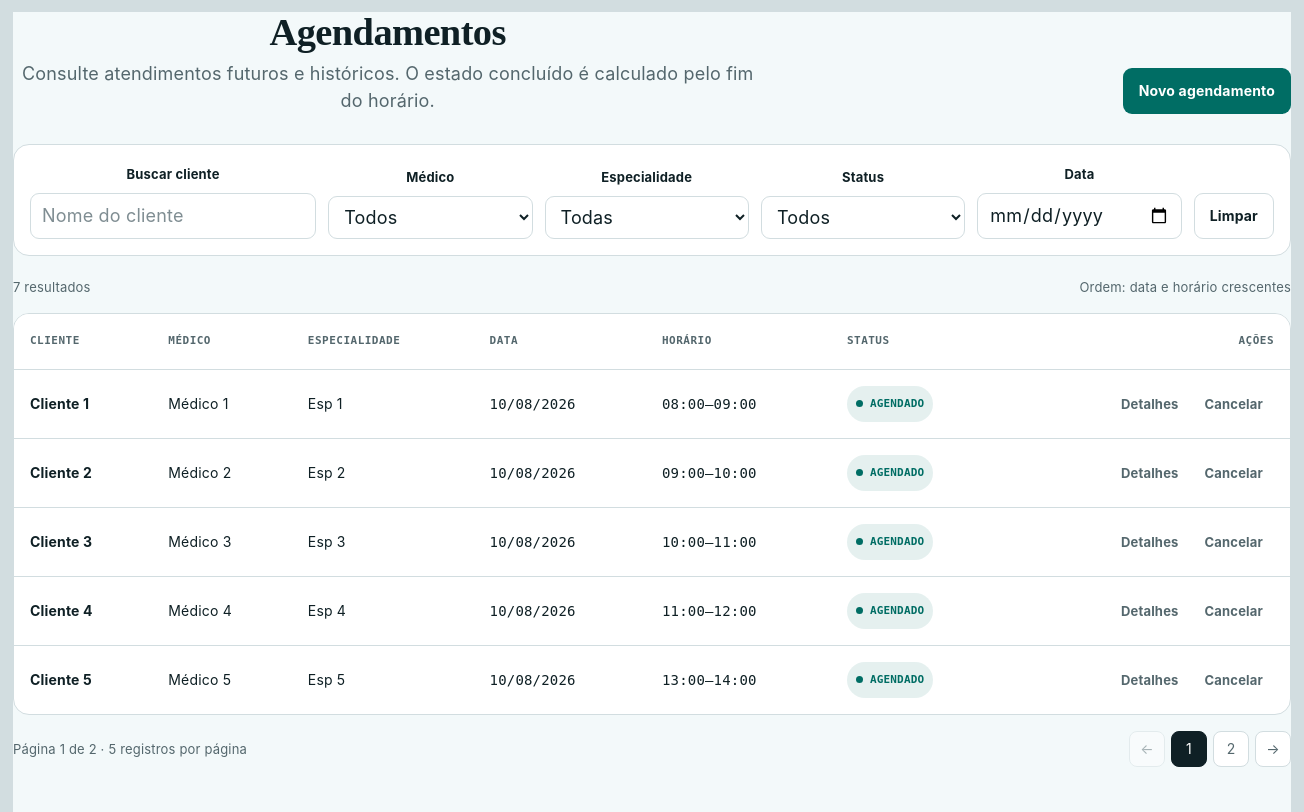
Test: AgendamentosPage — integração de paginação › ao clicar na página 2, busca novos registros e atualiza a contagem
This screenshot has width=1304, height=812.
Expected: the text "Cliente 1" is shown, top-left (30, 394), bottom-right (89, 412)
Click the button named "Página 2" at coordinates (1231, 749), box top-left (1213, 731), bottom-right (1249, 767)
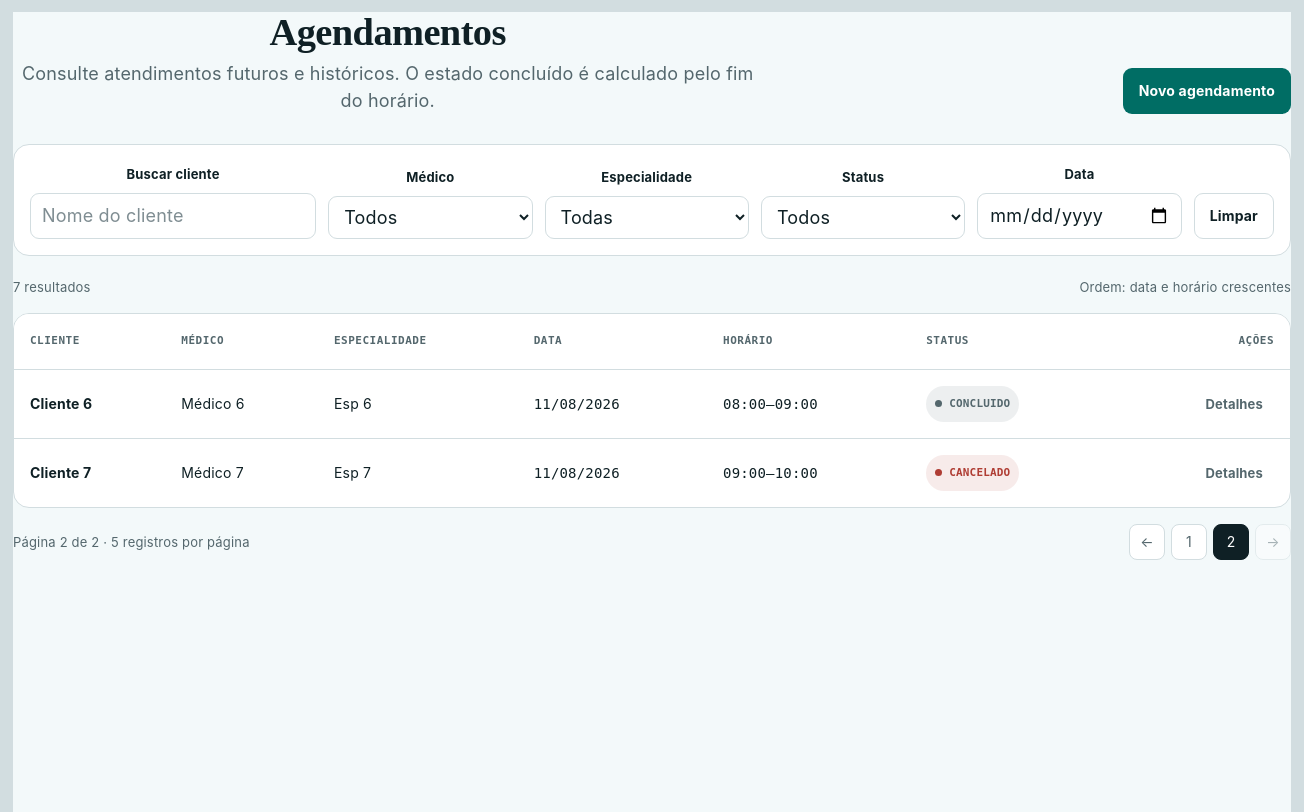
Now the text "Cliente 6" is shown, box top-left (30, 394), bottom-right (92, 412)
Now the text "Cliente 7" is shown, box top-left (30, 464), bottom-right (91, 481)
